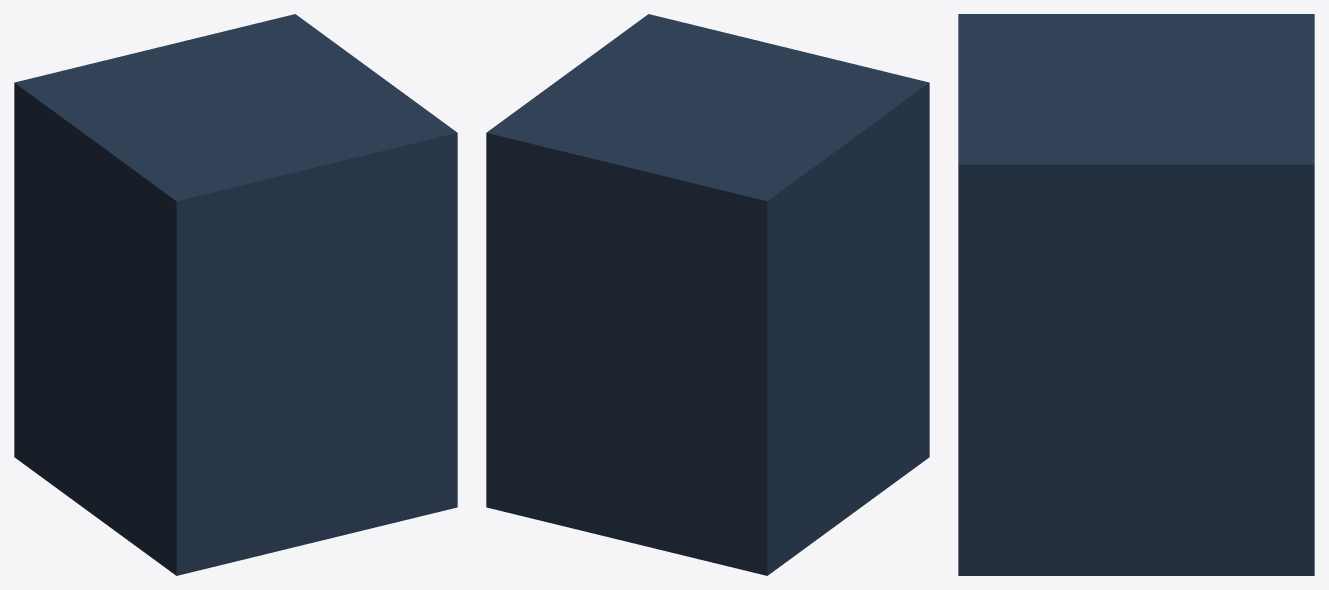
File: the-opus.glb
3 renders of one model, left to right at view 1: azimuth 30°, elevation 25°; view 2: azimuth 150°, elevation 25°; view 3: azimuth 270°, elevation 25°, orthographic. The views are drawn at different scales.
Visible parts, largest first — view 1: M_the-opus, opus_part.002, opus_part.001, opus_crown, opus_part.003; view 2: opus_part.001, opus_part.002, M_the-opus, opus_crown, opus_part.003; view 3: opus_part.003, M_the-opus, opus_part.001, opus_crown, opus_part.002.
Part boxes in pixels (x1,y1,x2,y2): M_the-opus: (131,99,457,575); opus_part.002: (59,97,205,542); opus_part.001: (14,14,340,489); opus_crown: (64,35,407,180); opus_part.003: (271,47,411,115); opus_part.001: (486,99,812,575); opus_part.002: (735,97,884,542); M_the-opus: (603,14,929,489); opus_crown: (536,35,879,180); opus_part.003: (532,47,681,115); opus_part.003: (1058,123,1214,575); M_the-opus: (958,14,1057,575); opus_part.001: (1215,14,1314,575); opus_crown: (998,31,1274,147); opus_part.002: (1058,14,1214,55).
Bounding box in the file's own units: 73 × 93 × 73.
